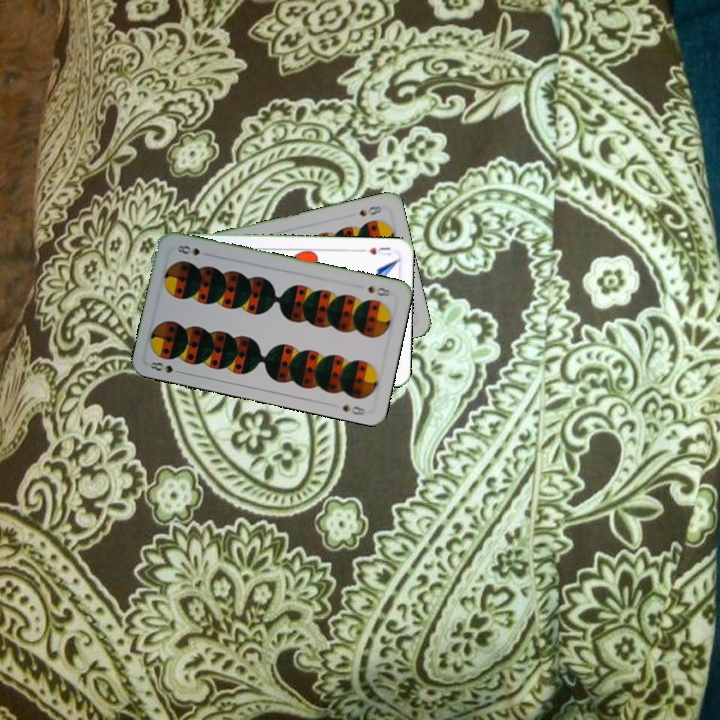HU: (357, 243, 393, 258)
S8: (146, 358, 186, 376), (355, 202, 384, 219), (364, 282, 393, 299)
